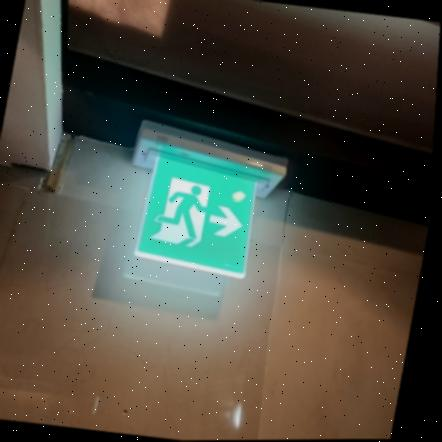emergency_exit: (130, 120, 288, 280), (133, 147, 261, 280)
